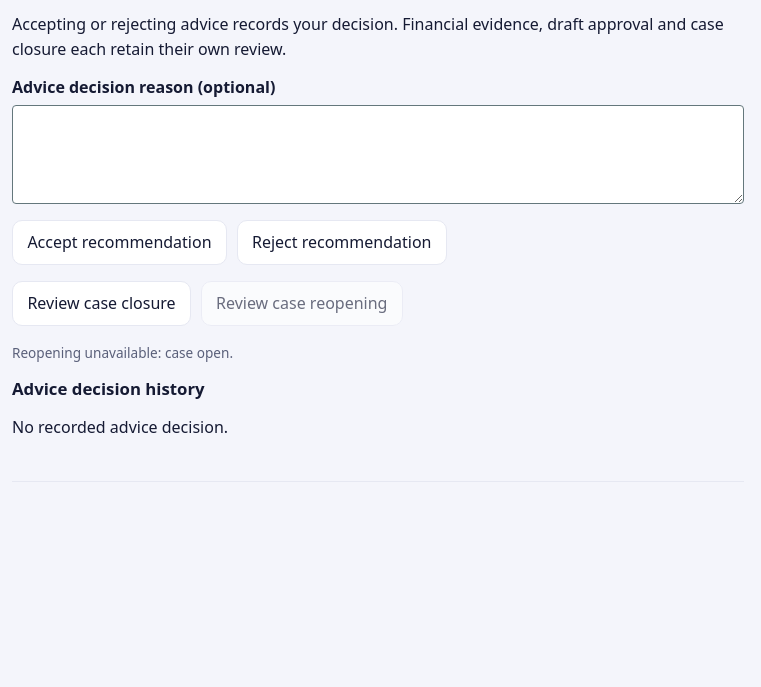
Test case: requires explicit exact-result closure confirmation before sending a command
The image size is (761, 687).
Click the button "Review case closure" at (102, 304), box [12, 281, 191, 326]
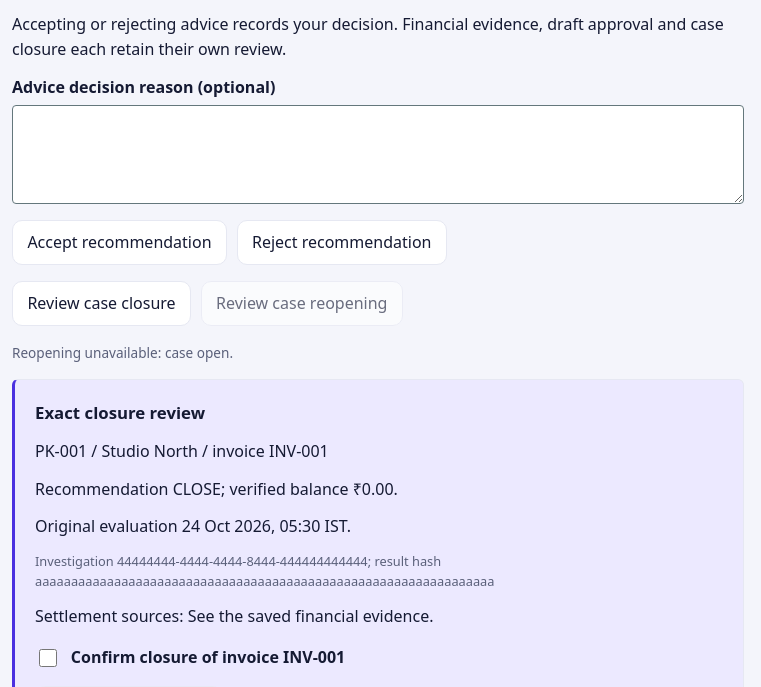
Click the checkbox labelled "Confirm closure of invoice INV-001" at (48, 658), box [39, 649, 57, 667]
(page scrolled)
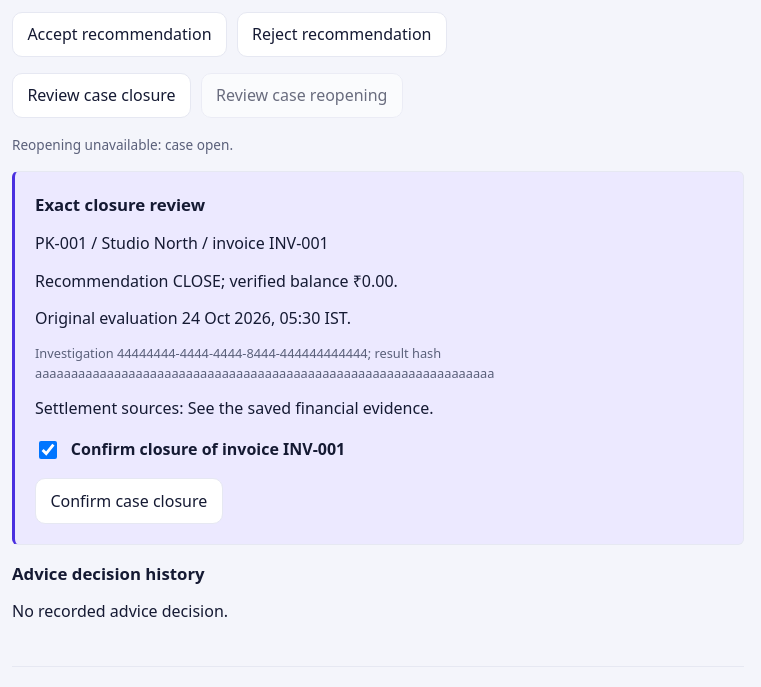
Click the button "Confirm case closure" at (129, 501), box [35, 478, 223, 524]
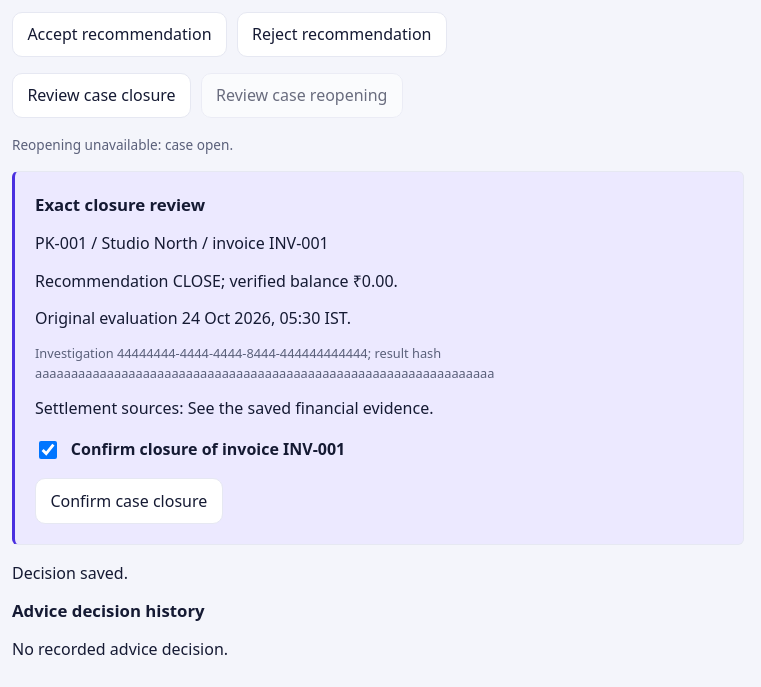
Now the text "Decision saved." is shown, box [12, 562, 128, 584]
